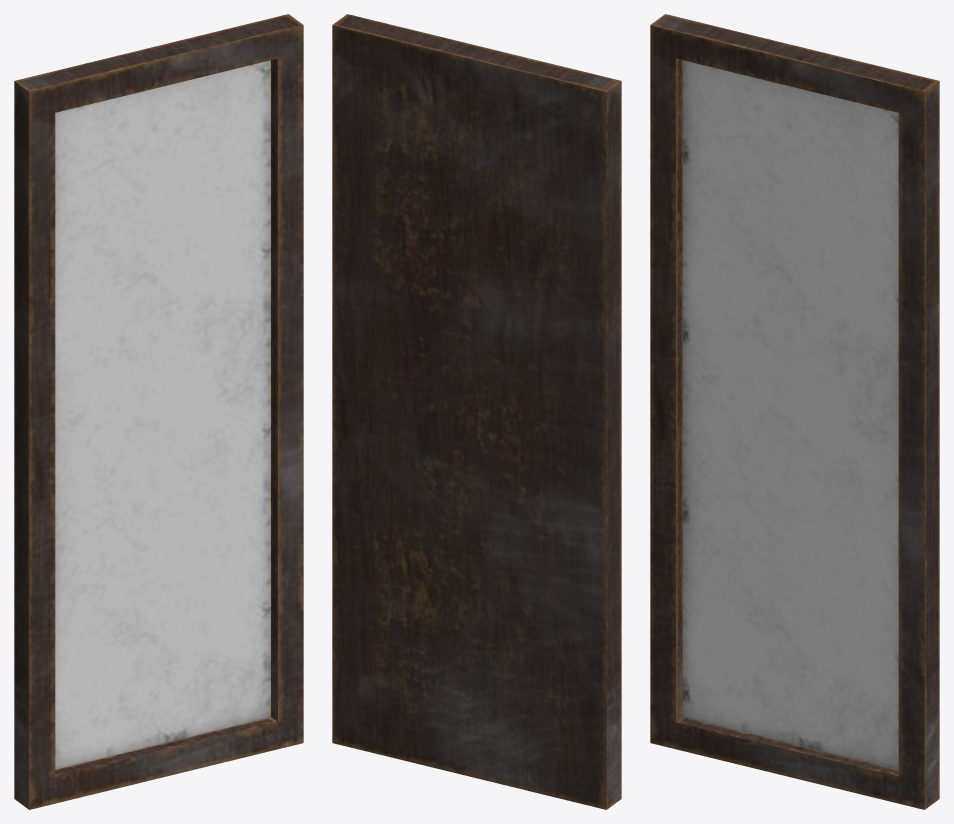
Rendered from mirror_frame.glb.
The picture shows the model from 3 angles, left to right: view 1: azimuth 30°, elevation 25°; view 2: azimuth 150°, elevation 25°; view 3: azimuth 330°, elevation 25°; orthographic projection.
Parts seen in each view (by area): view 1: Object_2; view 2: Object_2; view 3: Object_2.
Boxes of the visible parts, <box> form: Object_2: <box>14,14,303,809</box>; Object_2: <box>332,14,621,809</box>; Object_2: <box>650,14,939,809</box>.
Bounding box in the file's own units: 2 × 5 × 0.1923.
1 material, 1 textured.
